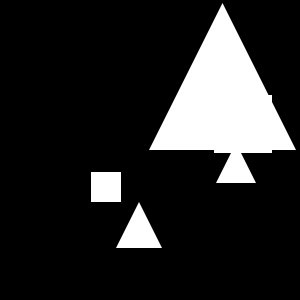circle: (214, 95, 272, 153), (91, 172, 121, 202)
triangle: (149, 3, 296, 150), (116, 202, 162, 248), (216, 143, 256, 183)
